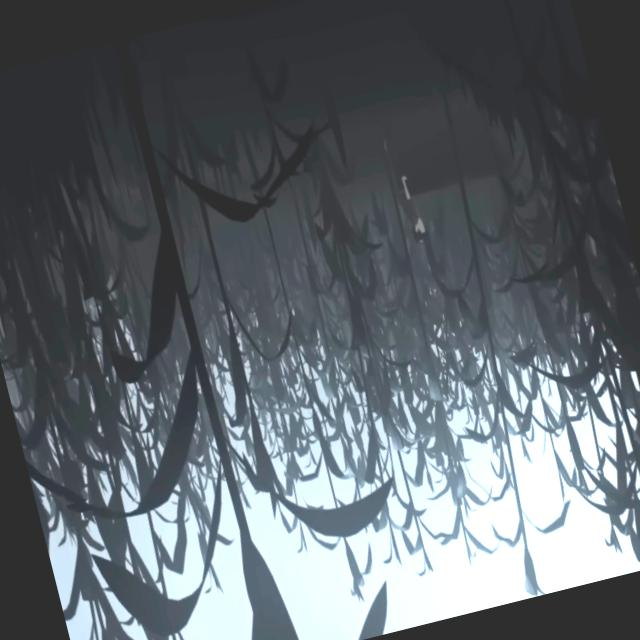boy: (378, 130, 428, 248)
